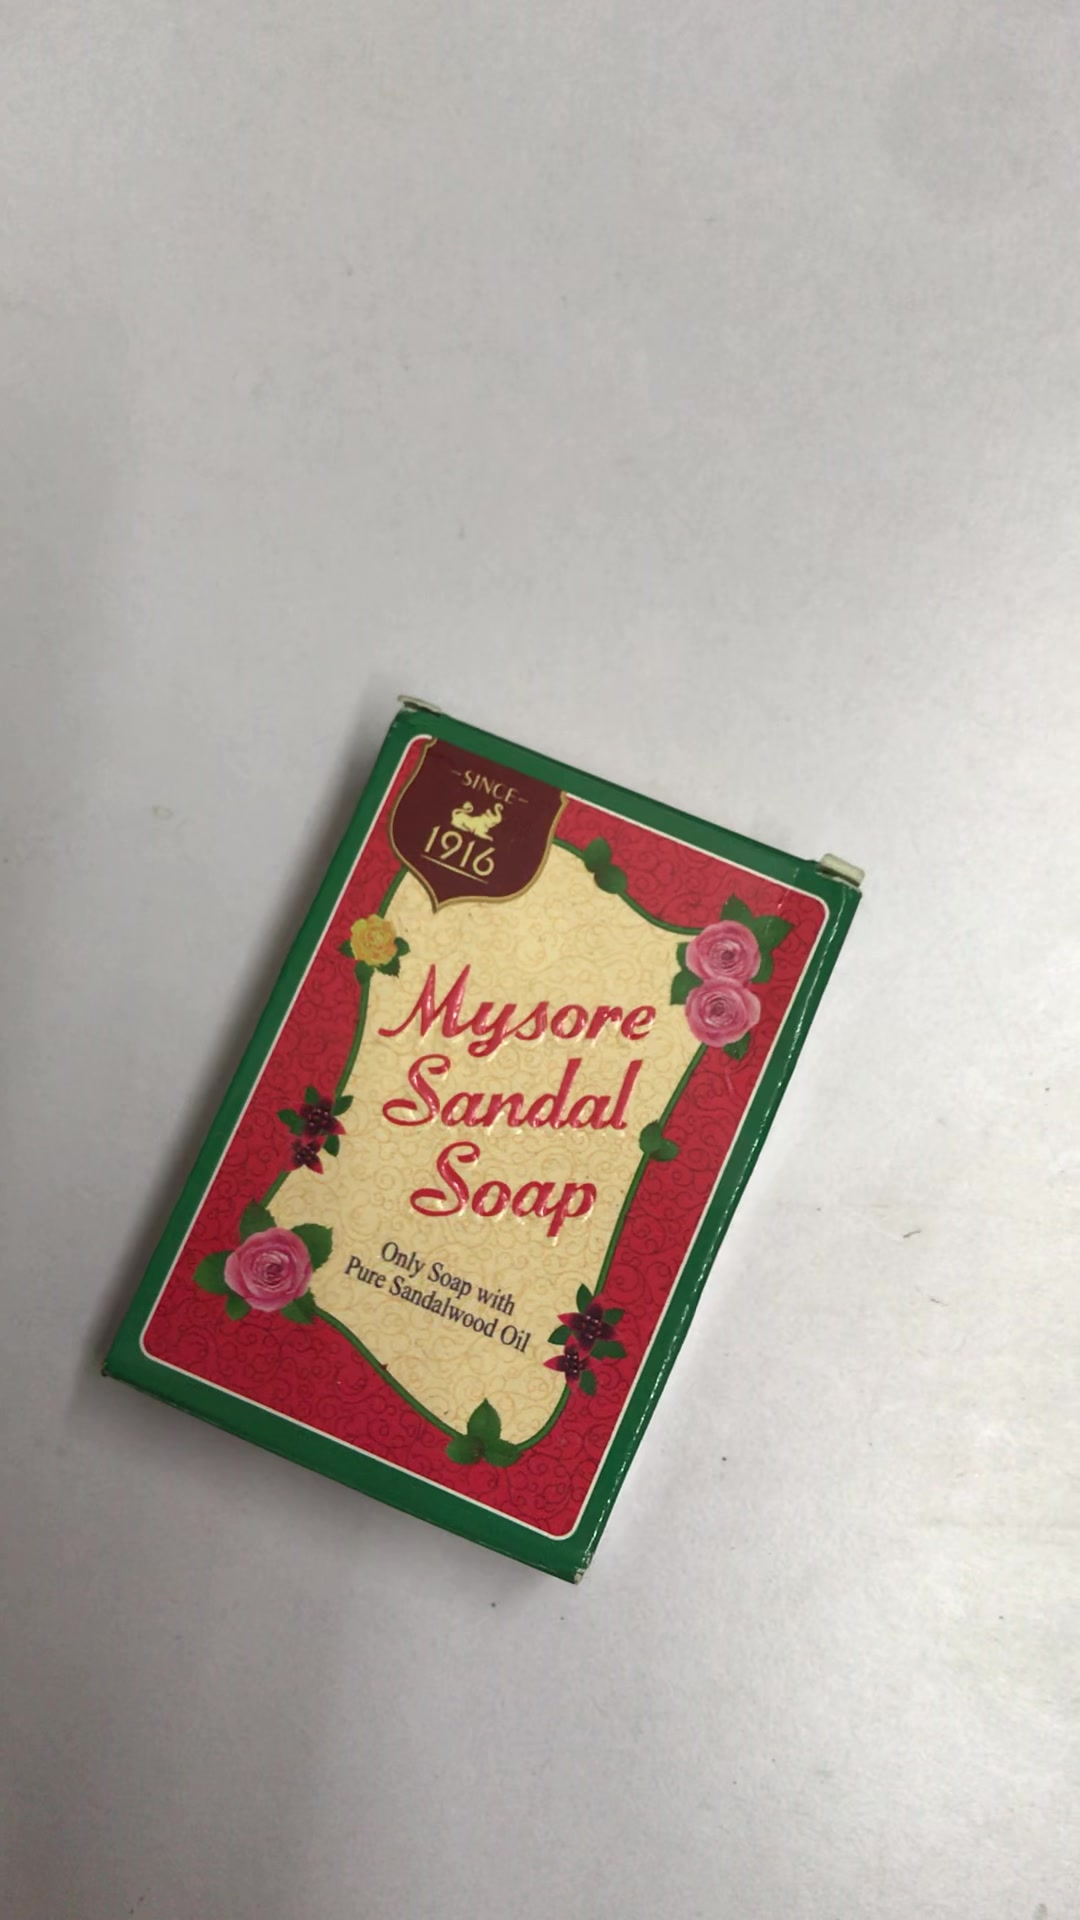mysore sandal soap: (94, 694, 868, 1577)
